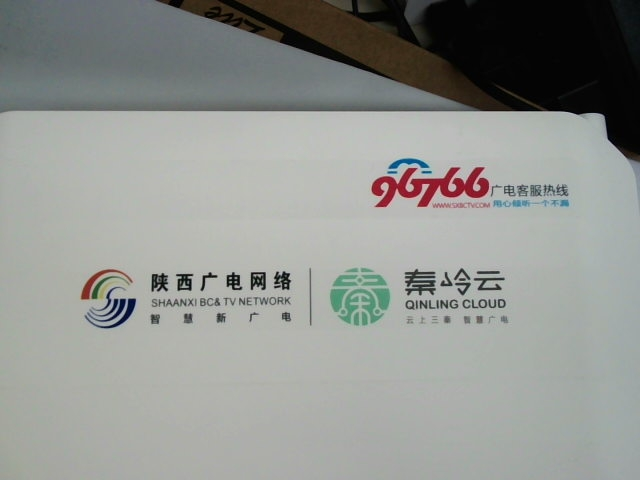AE_QinLing: (322, 261, 521, 334)
